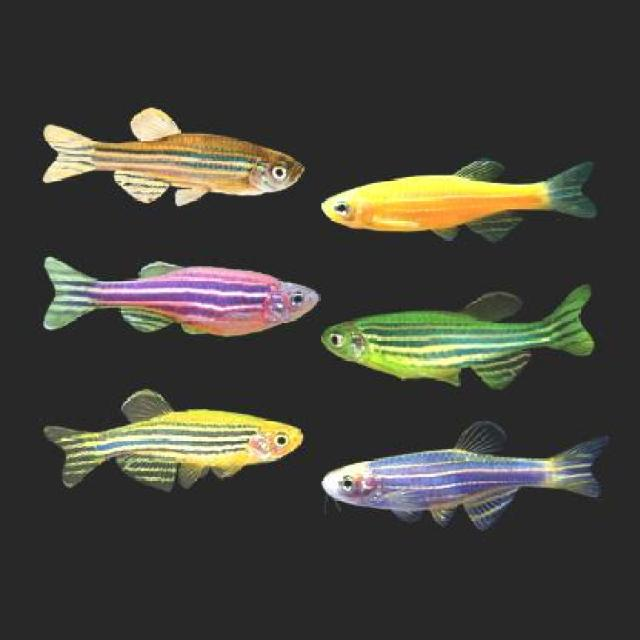ZebraFish: (317, 414, 600, 524), (324, 280, 593, 382), (43, 387, 305, 490), (41, 105, 304, 200), (38, 250, 316, 336), (319, 154, 604, 237)
